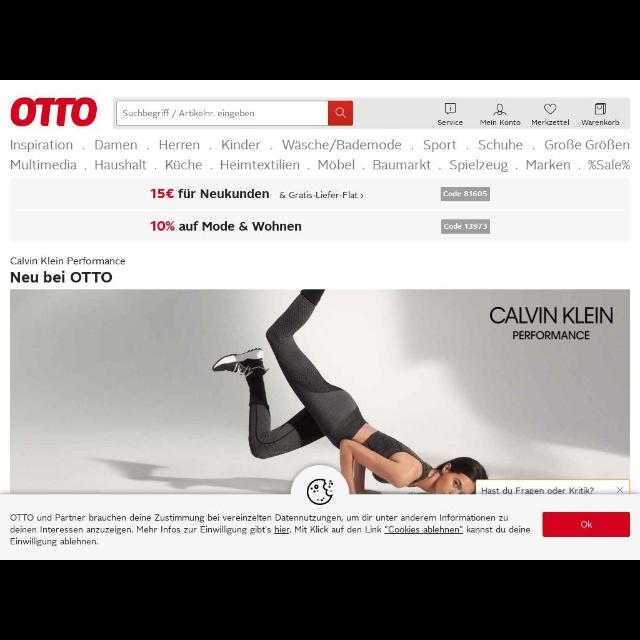icon: (306, 480, 336, 504), (487, 100, 509, 118), (590, 100, 610, 118), (332, 106, 350, 122), (542, 102, 558, 116), (439, 104, 456, 116)
iframe: (11, 176, 631, 214), (10, 212, 632, 242)
image: (12, 290, 630, 494), (15, 94, 99, 128)
input: (116, 103, 354, 125)
text: (10, 510, 532, 536), (10, 140, 632, 150), (11, 160, 633, 170), (122, 108, 254, 120), (13, 270, 111, 284), (11, 536, 101, 548), (8, 258, 128, 266), (581, 116, 621, 128), (532, 119, 568, 129), (481, 118, 522, 126), (436, 118, 464, 126)
textbutton: (544, 512, 628, 538)
toolbar: (3, 83, 630, 137)
